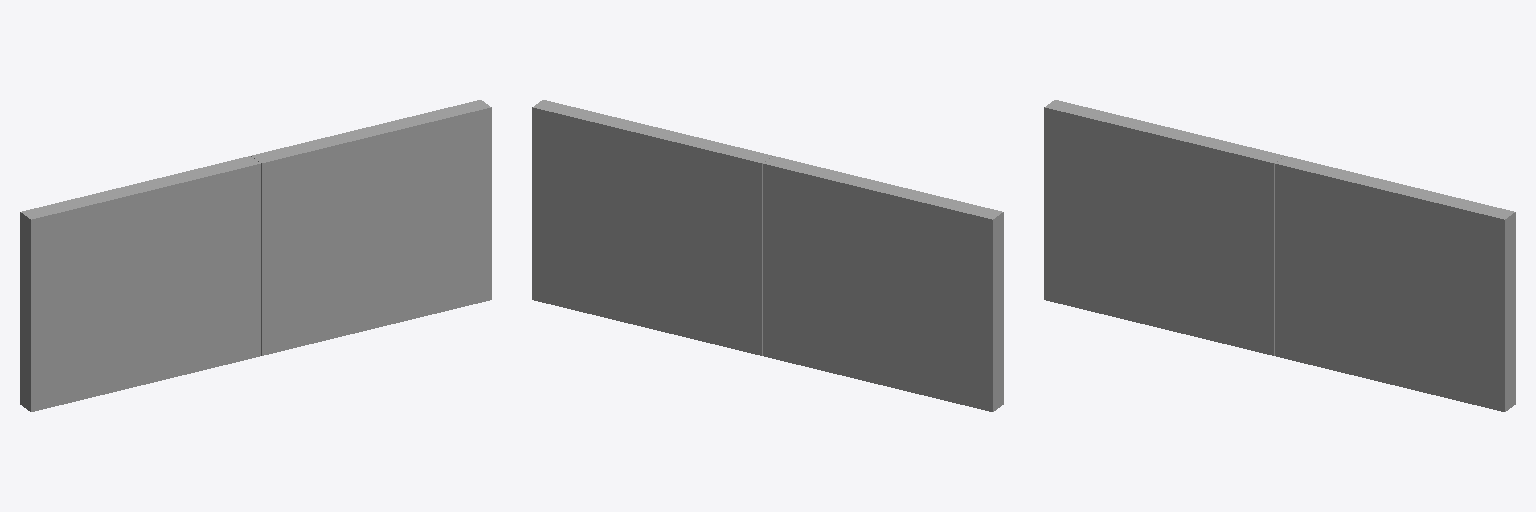
The robot description file, URDF, robot "wall_with_groove":
<?xml version="1.0"?>
<robot name="wall_with_groove">

  <link name="world"/>

  <link name="wall_link">
    <!-- ==================== 왼쪽 벽 (가로 2.4975m) ==================== -->
    <visual>
      <origin xyz="-1.25125 0 1.0" rpy="0 0 0"/>
      <geometry>
        <box size="2.4975 0.2 2.0"/>
      </geometry>
      <material name="gray">
        <color rgba="0.7 0.7 0.7 1.0"/>
      </material>
    </visual>

    <collision>
      <origin xyz="-1.25125 0 1.0" rpy="0 0 0"/>
      <geometry>
        <box size="2.4975 0.2 2.0"/>
      </geometry>
    </collision>

    <!-- ==================== 오른쪽 벽 (가로 2.4975m) ==================== -->
    <!-- 왼쪽 벽과 오른쪽 벽 사이에 0.005m(0.5cm)의 세로 홈(간격)이 생김 -->
    <visual>
      <origin xyz="1.25125 0 1.0" rpy="0 0 0"/>
      <geometry>
        <box size="2.4975 0.2 2.0"/>
      </geometry>
      <material name="gray">
        <color rgba="0.7 0.7 0.7 1.0"/>
      </material>
    </visual>

    <collision>
      <origin xyz="1.25125 0 1.0" rpy="0 0 0"/>
      <geometry>
        <box size="2.4975 0.2 2.0"/>
      </geometry>
    </collision>

    <!-- 관성 요소 -->
    <inertial>
      <origin xyz="0 0 1.0" rpy="0 0 0"/>
      <mass value="100.0"/>
      <inertia ixx="33.67" ixy="0.0" ixz="0.0"
               iyy="241.67" iyz="0.0"
               izz="208.67"/>
    </inertial>
  </link>

  <!-- 월드에 벽 고정 -->
  <joint name="wall_fixed_joint" type="fixed">
    <parent link="world"/>
    <child link="wall_link"/>
    <origin xyz="2.0 0.0 0.0" rpy="0 0 0"/>
  </joint>

  <!-- Gazebo 시뮬레이션 설정 -->
  <gazebo reference="wall_link">
    <material>Gazebo/Grey</material>
    <static>true</static>
  </gazebo>

</robot>

--- Facts derived from the render (not from the file) ---
Views: 3 orthographic renders of the robot side by side, from view 1: azimuth 30°, elevation 25°; view 2: azimuth 150°, elevation 25°; view 3: azimuth 330°, elevation 25°.
Model wall_with_groove with 2 links and 1 joints (1 fixed), rooted at world, posed all joints at 0.
Links seen in each view (by area): view 1: wall_link; view 2: wall_link; view 3: wall_link.
Link boxes in pixels (x1,y1,x2,y2): wall_link: (20, 100, 491, 411); wall_link: (532, 100, 1003, 411); wall_link: (1044, 100, 1515, 411).
Size in the robot's own frame: 5 by 0.2 by 2 metres.
Geometry: primitives only (box / cylinder / sphere), no mesh files.
